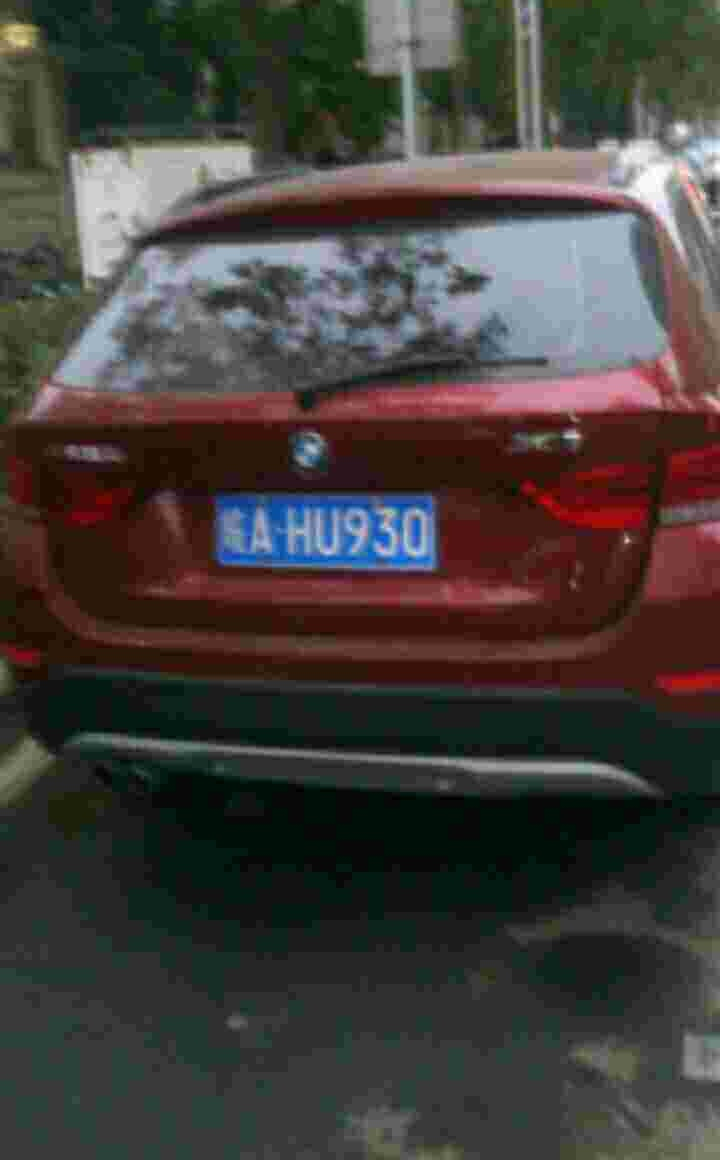plate: (213, 490, 439, 573)
